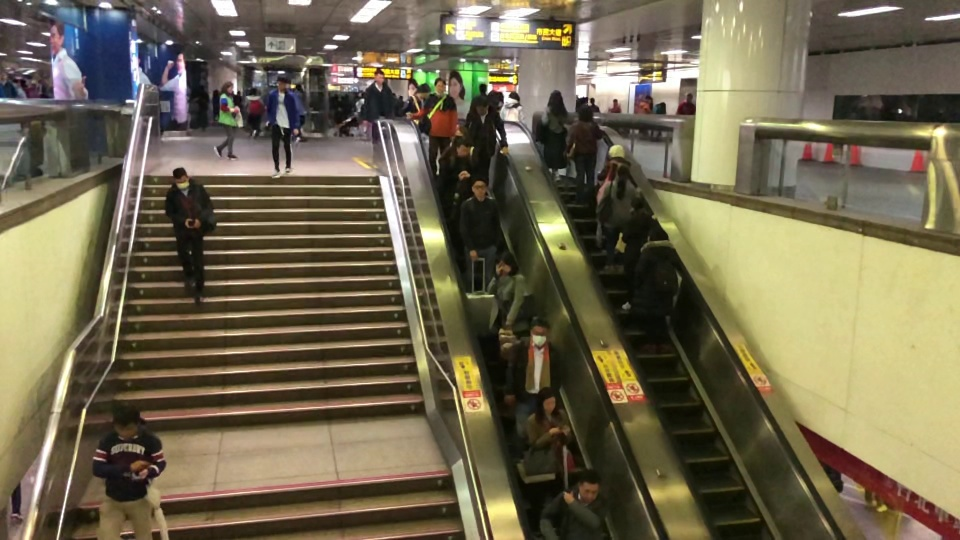person_head: (111, 401, 141, 439), (576, 468, 601, 504), (528, 316, 550, 348), (536, 386, 557, 415), (496, 251, 520, 276), (171, 167, 190, 190), (470, 176, 488, 199), (453, 135, 470, 158), (646, 225, 669, 242), (606, 142, 625, 161), (547, 89, 565, 109), (576, 103, 594, 122), (452, 125, 469, 144), (474, 96, 489, 115), (629, 196, 646, 212), (433, 76, 446, 96), (615, 163, 630, 180), (276, 76, 291, 91), (416, 83, 431, 98), (220, 80, 234, 95), (373, 69, 385, 84), (508, 91, 519, 102), (248, 86, 258, 96), (0, 69, 8, 81), (16, 77, 25, 87), (685, 92, 694, 102), (295, 83, 303, 94), (479, 83, 487, 92), (644, 94, 652, 103), (658, 101, 666, 110), (30, 79, 37, 89), (198, 84, 205, 92), (212, 89, 219, 96), (41, 84, 47, 92), (589, 97, 595, 104), (612, 98, 618, 105), (361, 91, 366, 99), (236, 90, 241, 95)
person_vbox: (91, 401, 168, 540), (502, 316, 561, 450), (523, 386, 572, 540), (485, 250, 533, 405), (164, 167, 216, 307), (628, 226, 683, 355), (437, 134, 490, 255), (405, 76, 459, 178), (538, 468, 609, 540), (597, 163, 643, 274), (458, 176, 502, 291), (619, 195, 656, 310), (593, 142, 628, 253), (467, 95, 509, 186), (566, 103, 603, 205), (265, 76, 301, 179), (540, 89, 573, 183), (436, 125, 481, 182), (360, 69, 401, 128), (212, 80, 239, 160), (397, 82, 431, 118), (242, 86, 265, 139), (464, 83, 488, 128), (499, 91, 529, 125), (293, 83, 307, 144), (195, 84, 210, 133), (637, 94, 652, 137), (15, 76, 25, 133), (651, 101, 666, 139), (674, 92, 695, 115), (0, 69, 17, 97), (211, 88, 220, 122), (25, 79, 39, 98), (355, 91, 366, 112), (608, 98, 622, 113), (588, 97, 600, 113), (233, 89, 241, 109), (39, 84, 50, 98)
